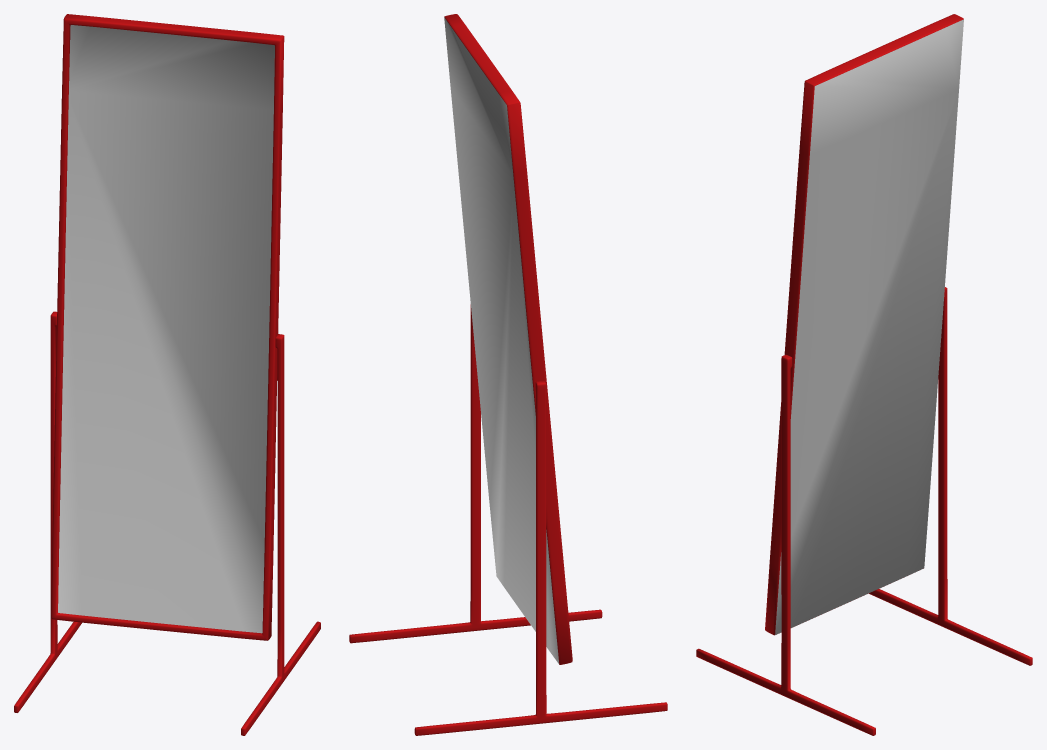
The model's file is k_ayna.obj.
3 views of the same model, side by side, from view 1: azimuth 30°, elevation 25°; view 2: azimuth 150°, elevation 25°; view 3: azimuth 270°, elevation 25° (orthographic). The views are drawn at different scales.
Visible parts, largest first — view 1: Box009.018_wall_pembe, Box009.018_m_red; view 2: Box009.018_wall_pembe, Box009.018_m_red; view 3: Box009.018_wall_pembe, Box009.018_m_red.
Part boxes in pixels (<box>): Box009.018_wall_pembe: <box>58,25,274,633</box>; Box009.018_m_red: <box>14,14,320,735</box>; Box009.018_wall_pembe: <box>444,17,559,664</box>; Box009.018_m_red: <box>349,14,667,735</box>; Box009.018_wall_pembe: <box>775,19,963,634</box>; Box009.018_m_red: <box>696,14,1032,735</box>.
Size of the model in its own units: 12.02 by 23.09 by 11.35.
